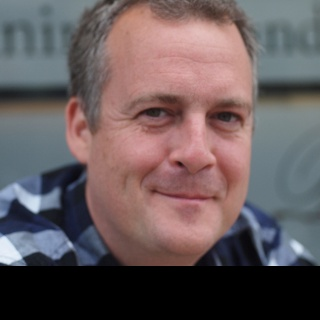without_mask: (87, 0, 251, 254)
